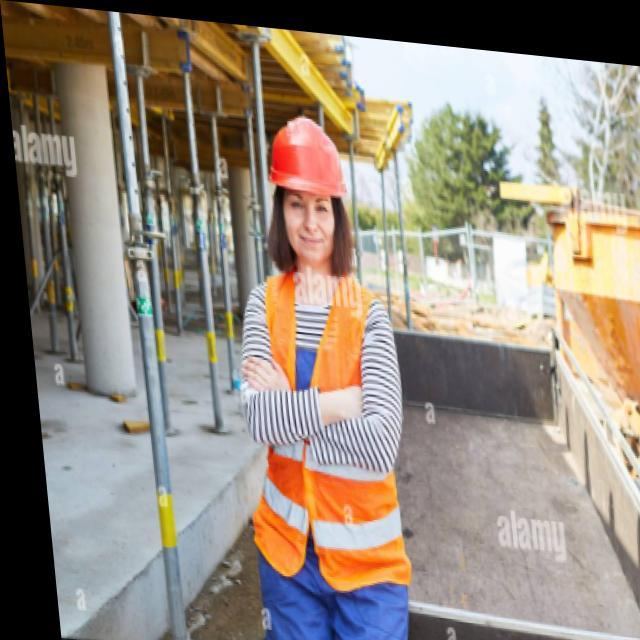hard_hat: (260, 112, 360, 274)
vest: (224, 258, 420, 605)
